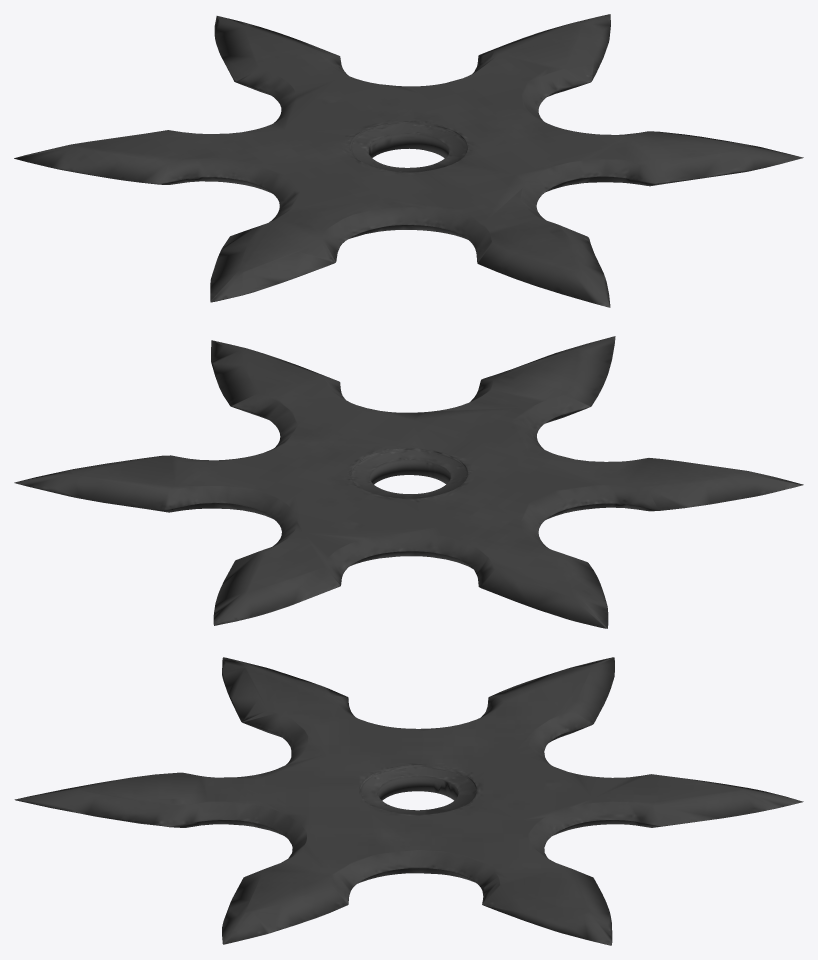
File: shuriken.glb
3 views of the same model, one above another, from view 1: azimuth 30°, elevation 25°; view 2: azimuth 150°, elevation 25°; view 3: azimuth 270°, elevation 25° (orthographic).
Parts seen in each view (by area): view 1: Object_4; view 2: Object_4; view 3: Object_4.
Part boxes in pixels (bbox=[...]): Object_4: bbox=[14, 14, 803, 307]; Object_4: bbox=[14, 336, 803, 628]; Object_4: bbox=[14, 657, 803, 945].
Size of the model in its own units: 2.21 by 0.0803 by 2.56.
Materials: 1 (1 with a texture image).
